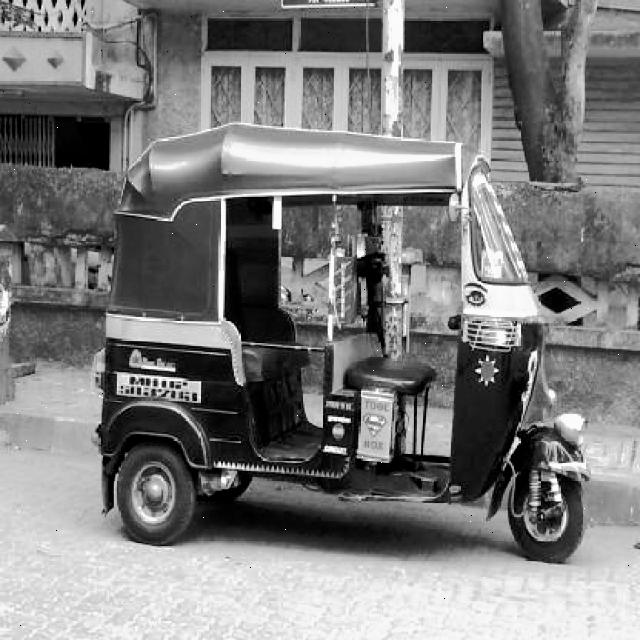Auto-Rickshaw: (97, 123, 590, 569)
